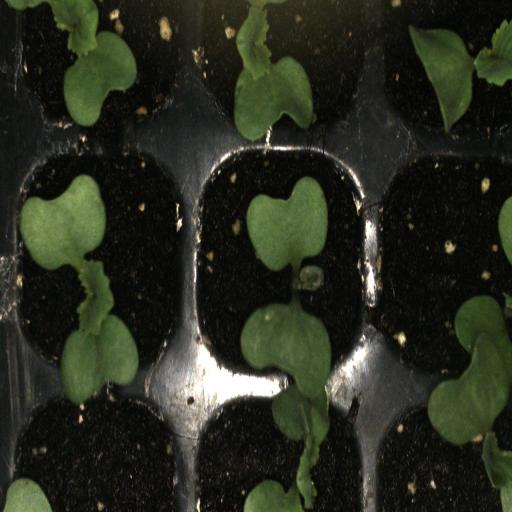Folha: (246, 176, 328, 291)
Germinacao: (6, 134, 193, 390), (192, 136, 372, 387), (12, 0, 193, 139), (193, 0, 372, 135), (193, 388, 374, 512), (374, 0, 512, 139), (375, 381, 512, 512)
